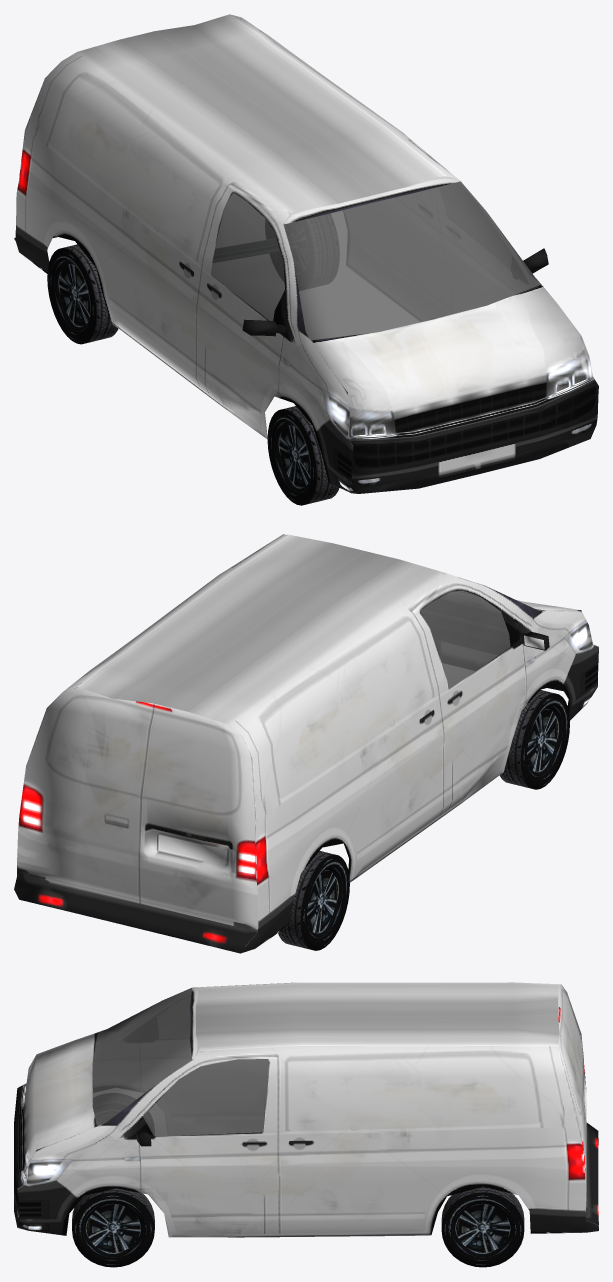
Rendered from LowPolyWhitevan.fbx.
3 renders of one model, top to bottom at view 1: azimuth 30°, elevation 25°; view 2: azimuth 150°, elevation 25°; view 3: azimuth 270°, elevation 25°, orthographic. The views are drawn at different scales.
Visible parts, largest first — view 1: Cylinder.001; view 2: Cylinder.001; view 3: Cylinder.001.
Part boxes in pixels (box(x1,y1,x2,y2)): Cylinder.001: box(14, 14, 598, 505); Cylinder.001: box(14, 534, 598, 953); Cylinder.001: box(14, 982, 598, 1267).
Size of the model in its own units: 317 by 247 by 634.
